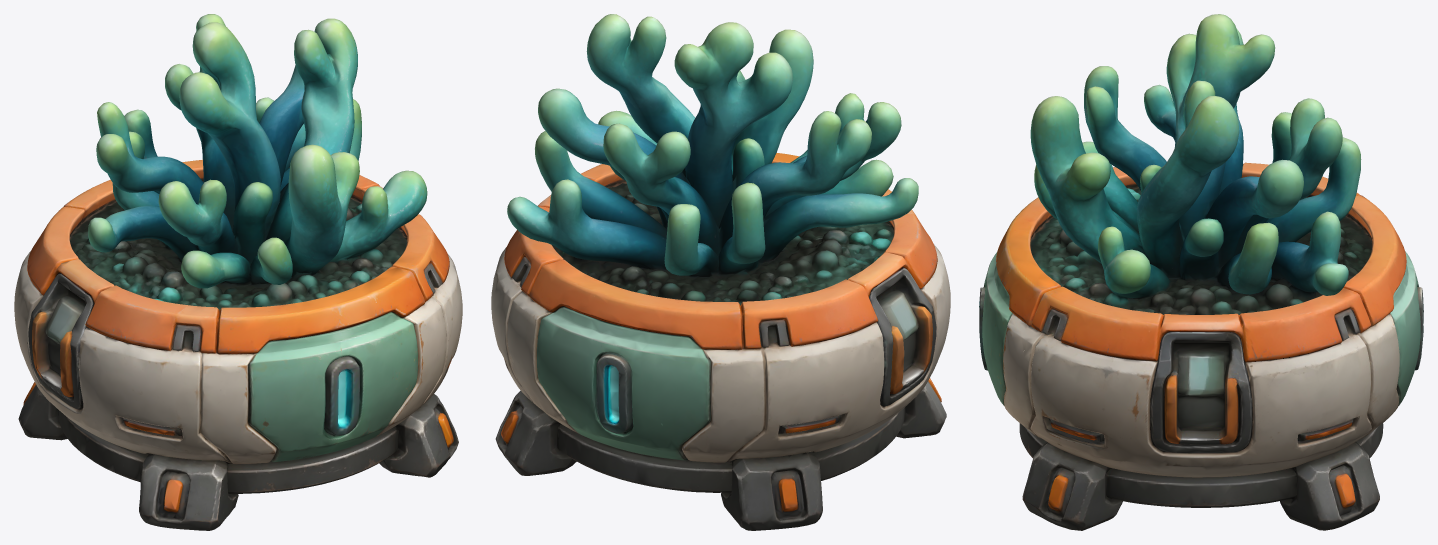
The model's file is sci-fi planter 3d model.glb.
3 renders of one model, left to right at view 1: azimuth 30°, elevation 25°; view 2: azimuth 150°, elevation 25°; view 3: azimuth 270°, elevation 25°, orthographic. The views are drawn at different scales.
Parts seen in each view (by area): view 1: tripo_node_86152344-8dd1-4f32-bc8d-bf9467ca3604; view 2: tripo_node_86152344-8dd1-4f32-bc8d-bf9467ca3604; view 3: tripo_node_86152344-8dd1-4f32-bc8d-bf9467ca3604.
Part boxes in pixels (<box>): tripo_node_86152344-8dd1-4f32-bc8d-bf9467ca3604: <box>14,14,462,530</box>; tripo_node_86152344-8dd1-4f32-bc8d-bf9467ca3604: <box>491,14,950,530</box>; tripo_node_86152344-8dd1-4f32-bc8d-bf9467ca3604: <box>979,14,1423,530</box>.
Bounding box in the file's own units: 0.9596 × 1 × 0.9357.
1 material, 1 textured.
